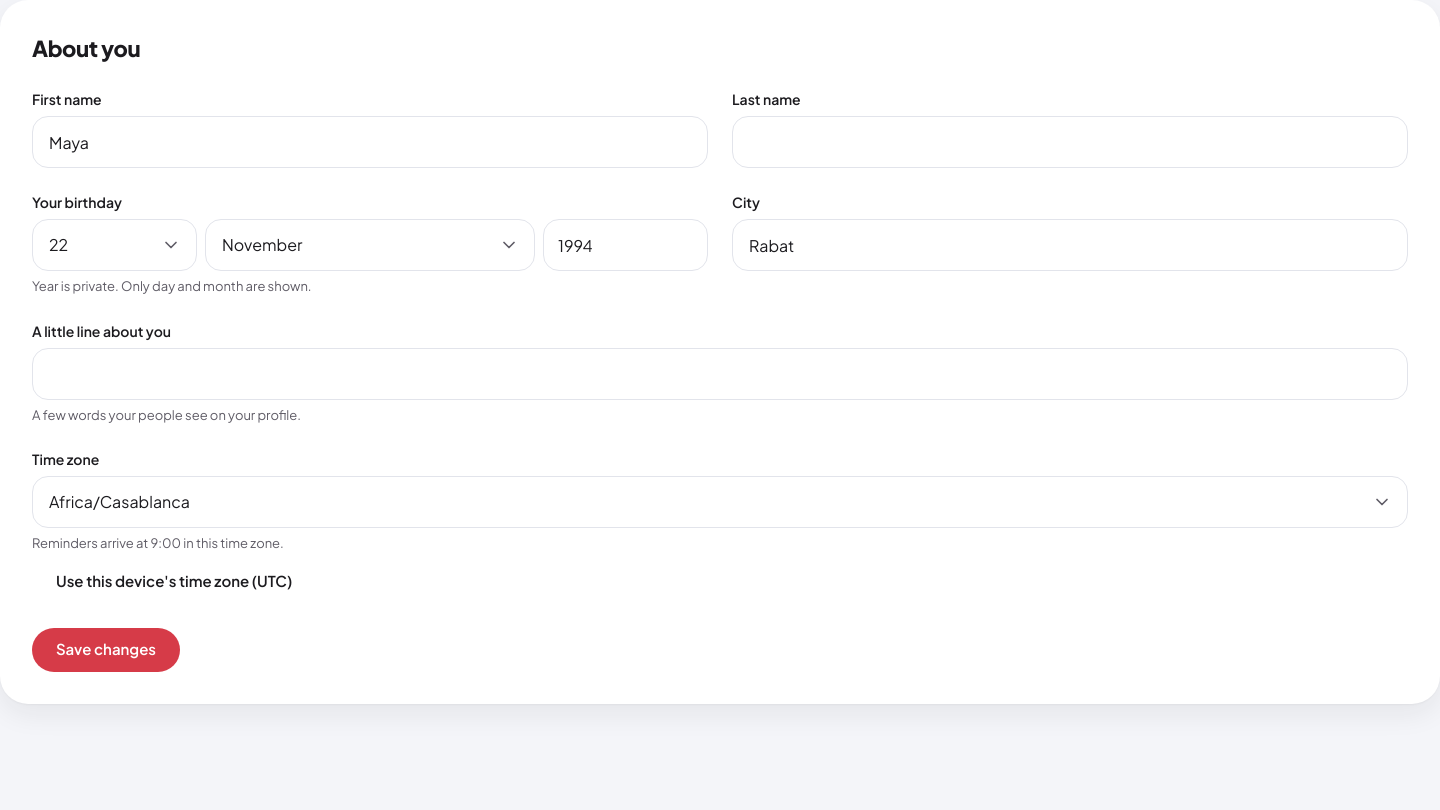
Test: Profile → About you › saves names, birthday, city, little line and time zone; Save becomes Saved
This screenshot has width=1440, height=810.
Type "Alaoui" into the field labelled "Last name".
click(1070, 142); type("Alaoui")  # box [732, 116, 1408, 168]
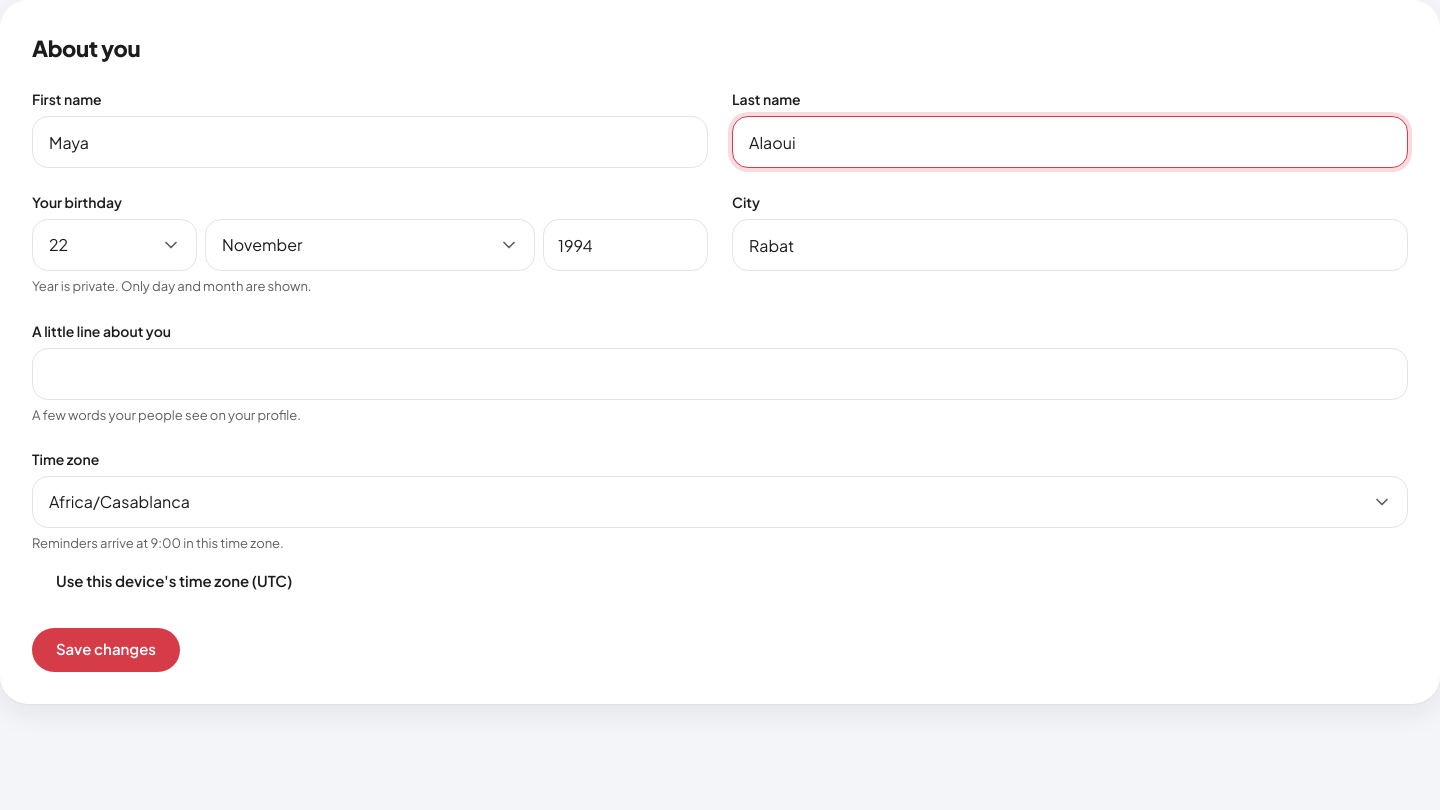
Type "Tea first." into the field labelled "A little line about you".
click(720, 374); type("Tea first.")  # box [32, 348, 1408, 400]
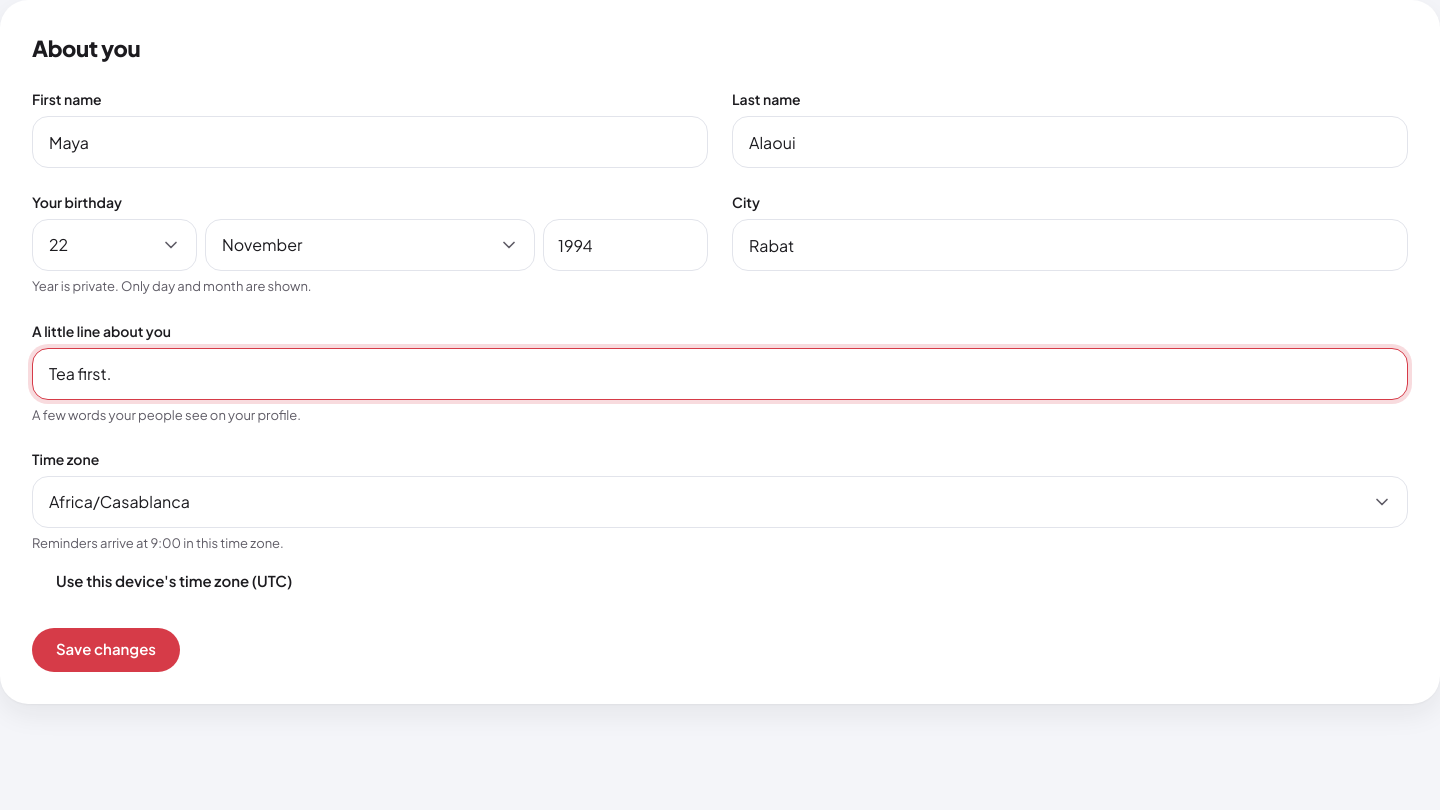
Select "Europe/London" in the dropdown labelled "Time zone" at {"x": 720, "y": 502}, box [32, 476, 1408, 528]
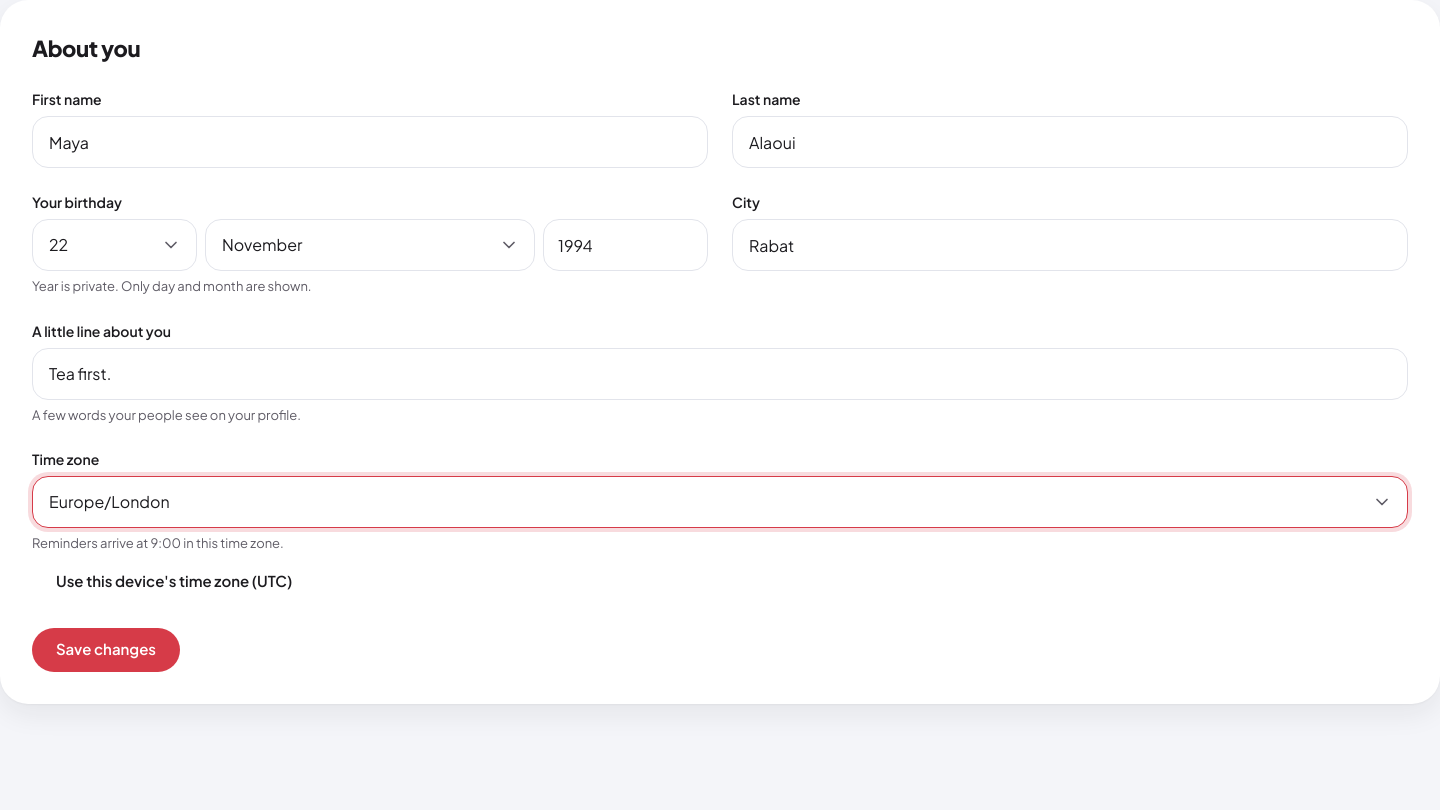
Click the button "Save changes".
click(106, 650)  # box [32, 628, 180, 672]
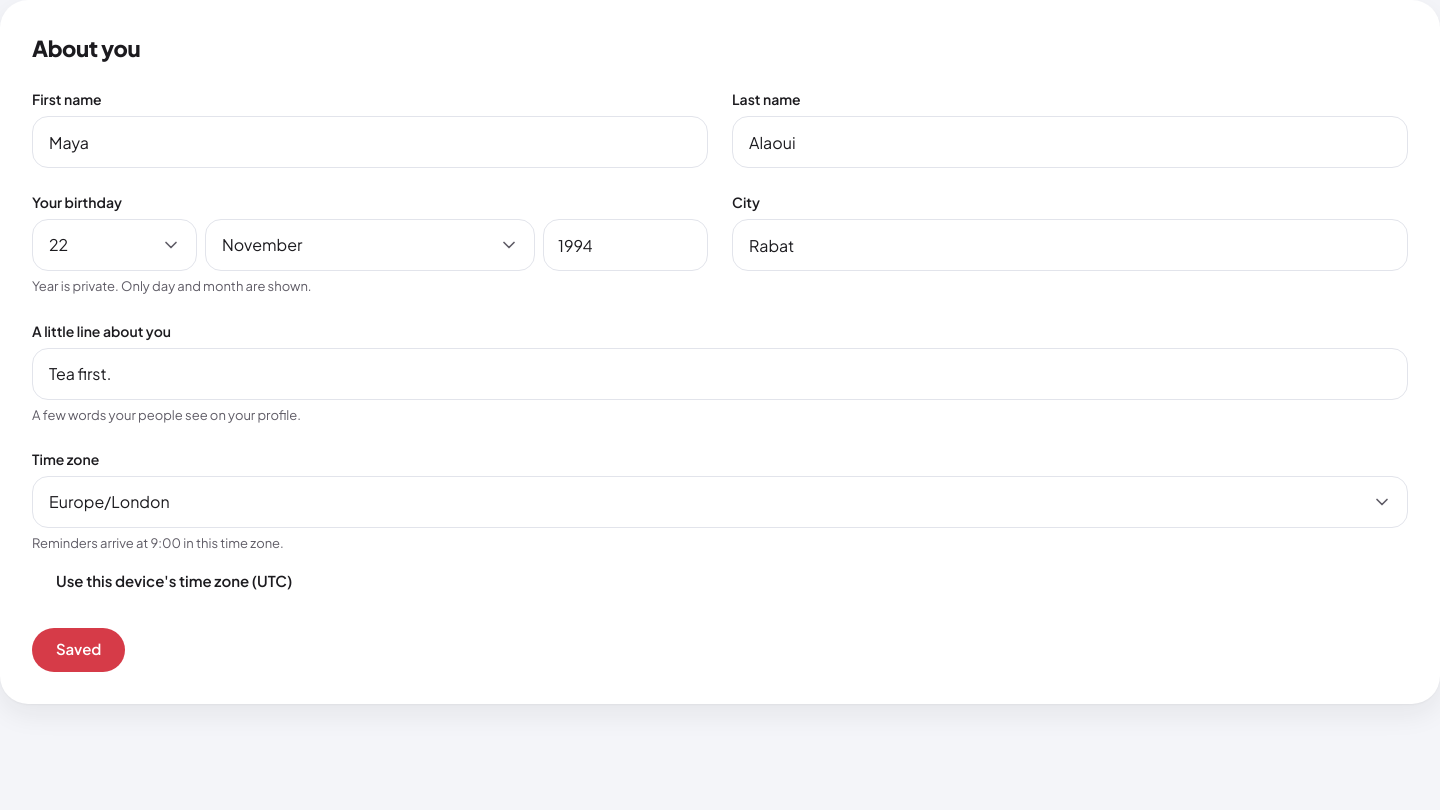
Expected: the button "Saved" is shown, [32, 628, 125, 672]
# A new change makes it "Save" again.
Type "!" into the field labelled "City".
click(1070, 245); type("!")  # box [732, 219, 1408, 271]
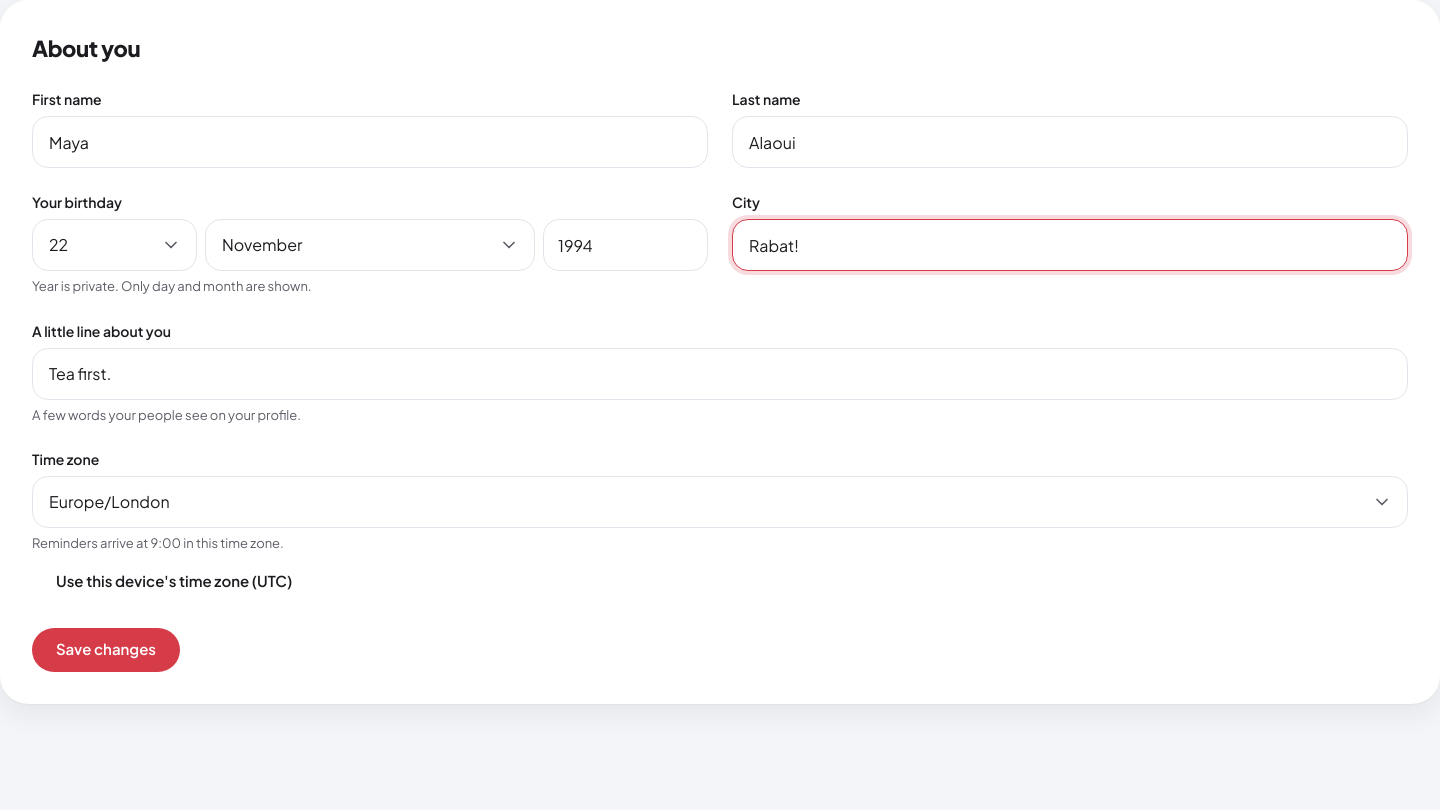
Expected: the button "Save changes" is shown, [32, 628, 180, 672]
